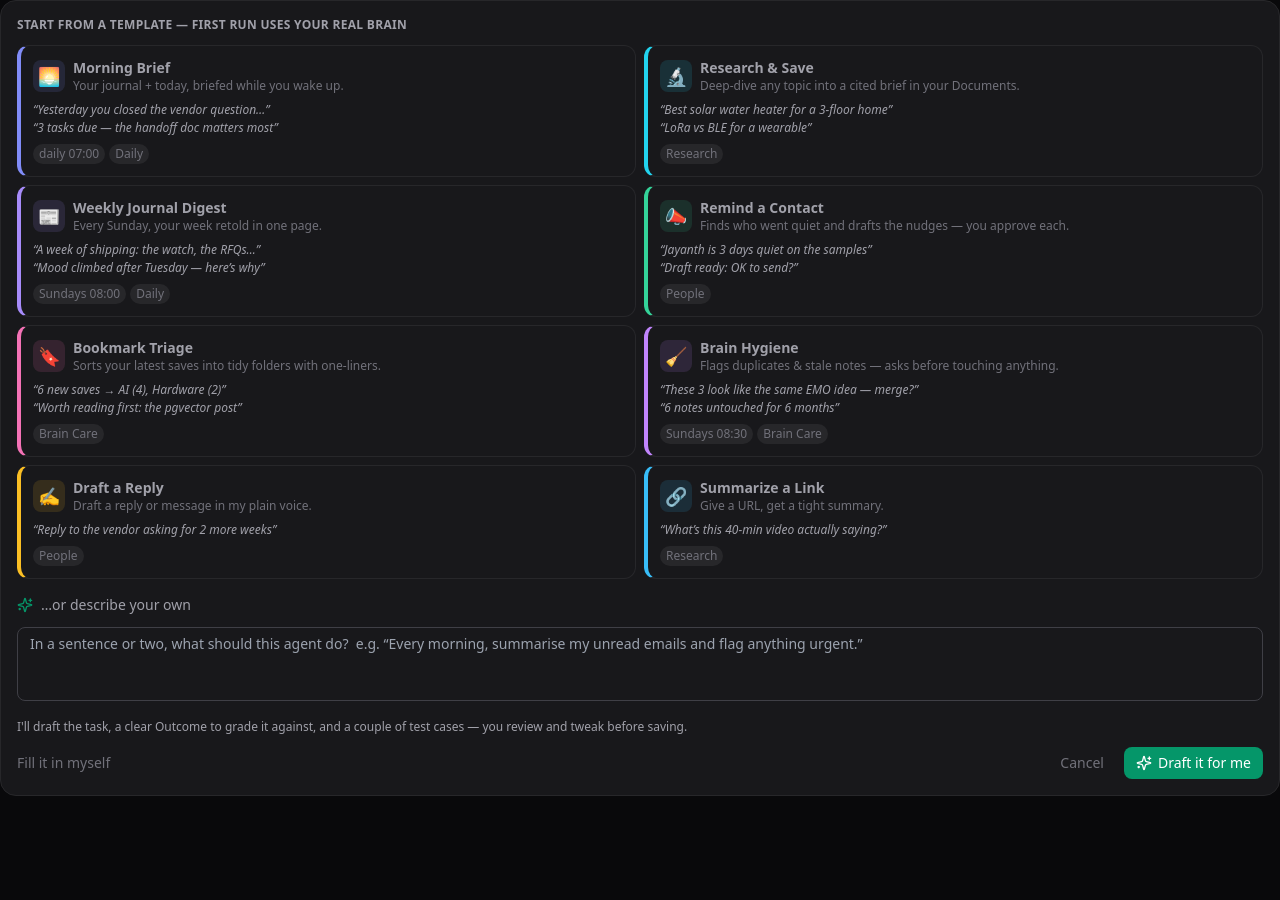
Scenario: NewAgentForm with a Social prefill › without a prefill the ordinary form still starts on "describe it" and defaults to a Document
Click the button "Fill it in myself".
click(64, 763)  # box top-left (17, 753), bottom-right (110, 773)
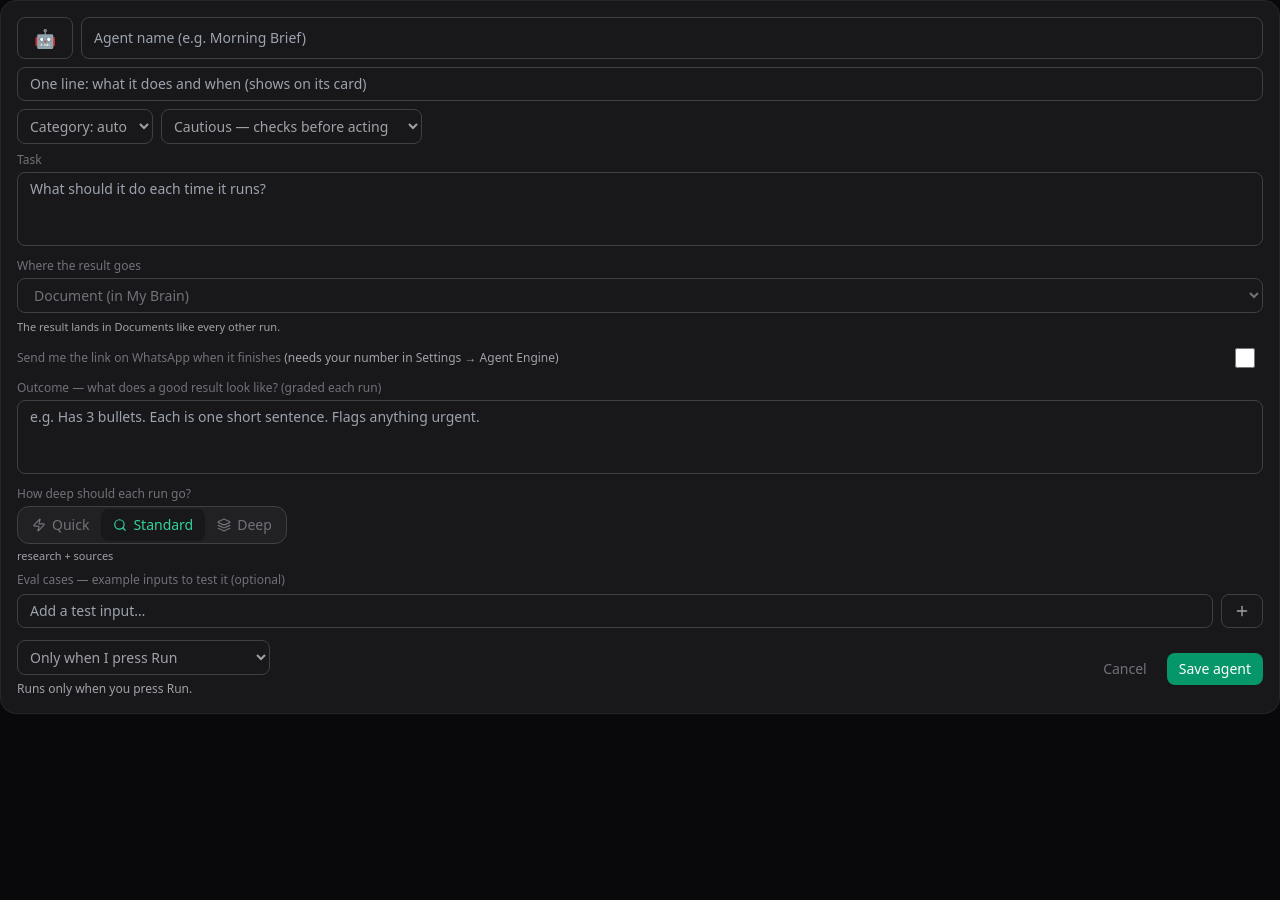
Expected: the dropdown labelled "Where the result goes" shows "Document (in My Brain)", top-left (17, 278), bottom-right (1263, 313)
